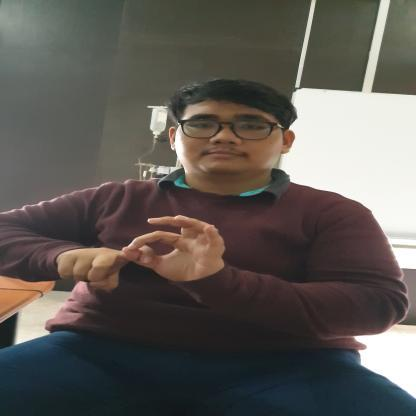Q: (59, 212, 248, 294)
